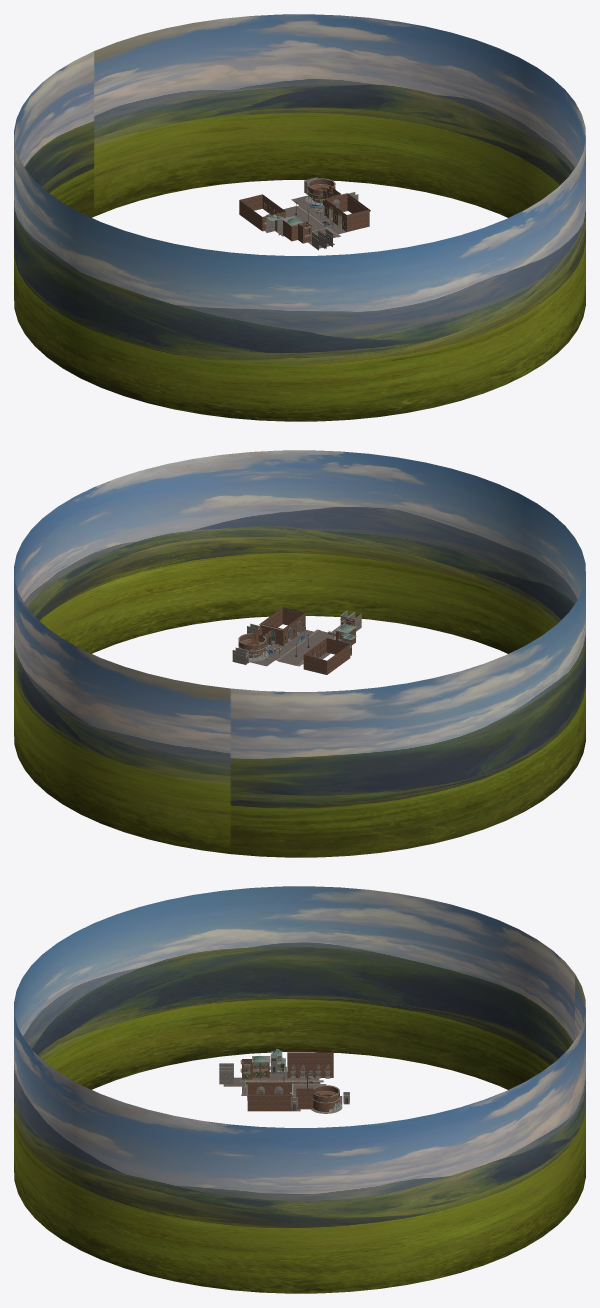
Rendered from env_nab_theed_street_pre.glb.
The picture shows the model from 3 angles, top to bottom: view 1: azimuth 30°, elevation 25°; view 2: azimuth 150°, elevation 25°; view 3: azimuth 270°, elevation 25°; orthographic projection.
Visible parts, largest first — view 1: brac_skycyllinder_mesh, nab_theed_building_06, nab_theed_building_01, nab_theed_building_03, nab_theed_building_05; view 2: brac_skycyllinder_mesh, nab_theed_building_01, nab_theed_building_06, nab_theed_building_03; view 3: brac_skycyllinder_mesh, nab_theed_building_06, nab_theed_building_01, nab_theed_building_03, nab_theed_building_05.
Part boxes in pixels (left/top/right/bottom): brac_skycyllinder_mesh: left=14, top=14, right=585, bottom=421; nab_theed_building_06: left=323, top=193, right=370, bottom=231; nab_theed_building_01: left=239, top=194, right=285, bottom=231; nab_theed_building_03: left=305, top=178, right=340, bottom=206; nab_theed_building_05: left=282, top=216, right=311, bottom=243; brac_skycyllinder_mesh: left=14, top=450, right=585, bottom=857; nab_theed_building_01: left=303, top=638, right=350, bottom=674; nab_theed_building_06: left=259, top=607, right=306, bottom=645; nab_theed_building_03: left=238, top=627, right=271, bottom=661; brac_skycyllinder_mesh: left=14, top=886, right=585, bottom=1293; nab_theed_building_06: left=246, top=1083, right=293, bottom=1111; nab_theed_building_01: left=287, top=1052, right=333, bottom=1079; nab_theed_building_03: left=296, top=1085, right=342, bottom=1113; nab_theed_building_05: left=240, top=1055, right=270, bottom=1079.
Bounding box in the file's own units: 380 × 121 × 380.
Materials: 28 (28 with a texture image).
